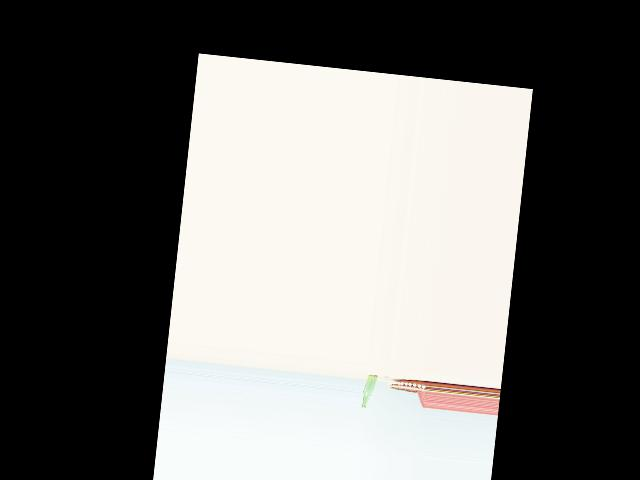beer: (361, 373, 377, 409)
